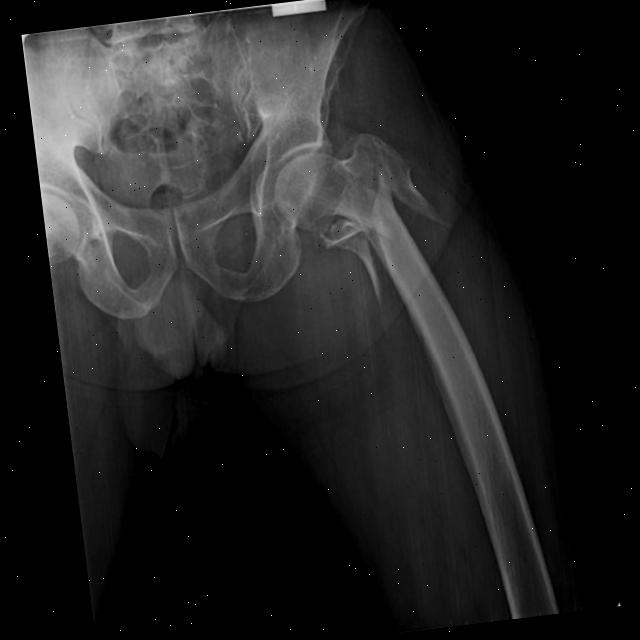Fracture: (320, 154, 456, 314)
